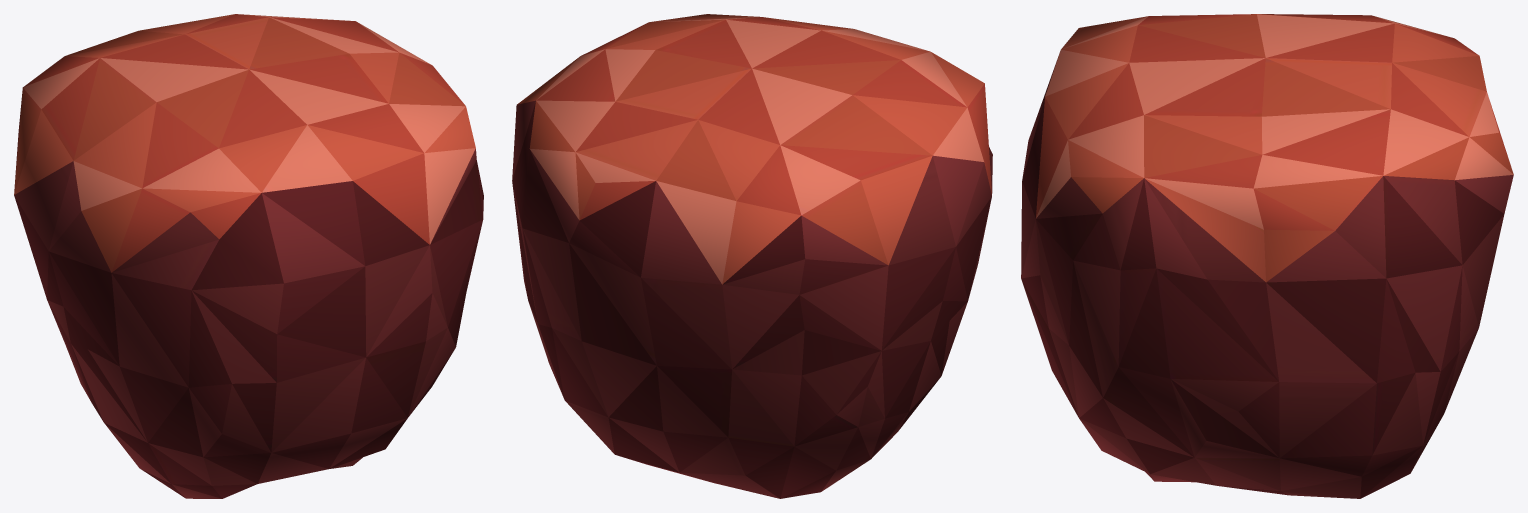
File: Square_Island_Low_Lvl_1.fbx
3 renders of one model, left to right at view 1: azimuth 30°, elevation 25°; view 2: azimuth 150°, elevation 25°; view 3: azimuth 270°, elevation 25°, orthographic. The views are drawn at different scales.
Parts seen in each view (by area): view 1: polySurface1; view 2: polySurface1; view 3: polySurface1.
Part boxes in pixels (<box>): polySurface1: <box>14,14,483,498</box>; polySurface1: <box>512,14,992,498</box>; polySurface1: <box>1021,14,1513,498</box>.
Bounding box in the file's own units: 678 × 655 × 666.
